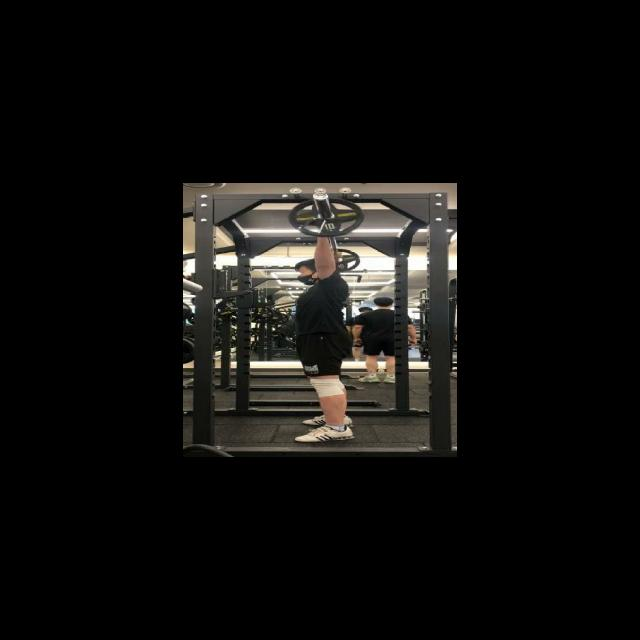barbell: (288, 192, 365, 239)
